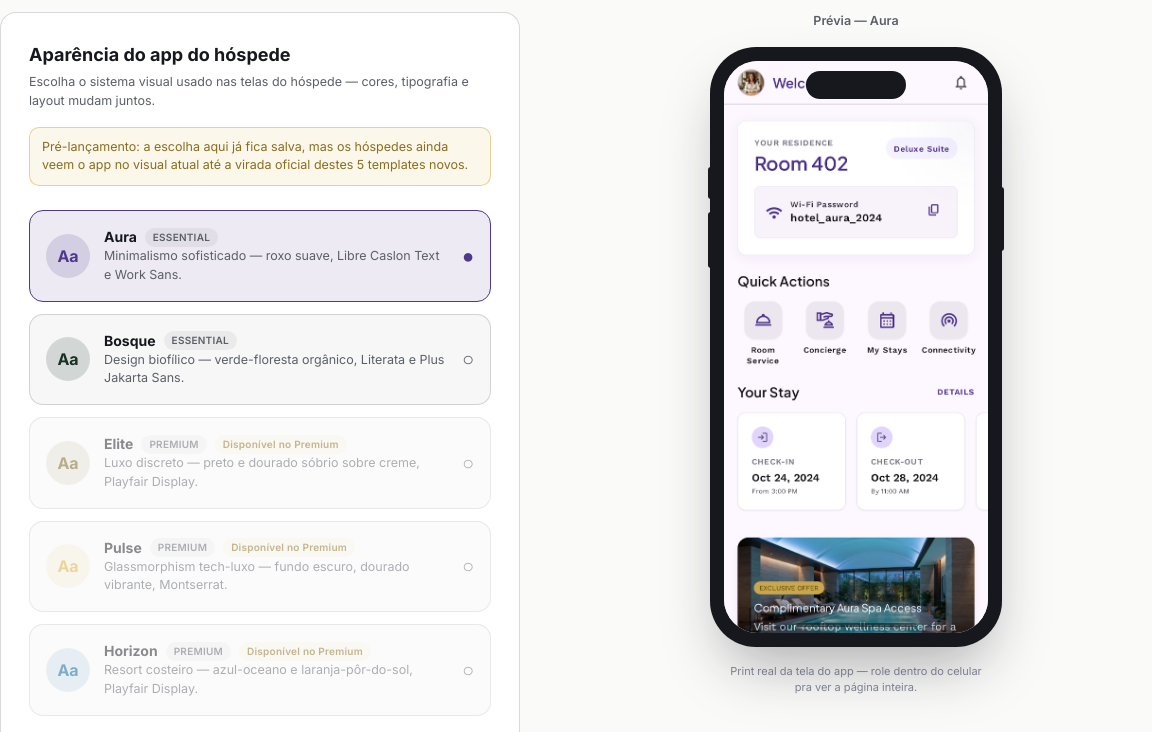
AppearancePage › switches the preview when a different allowed option is selected
The image size is (1152, 732).
Expected: the text "Prévia — Aura" is shown, left=813, top=12, right=899, bottom=31
Click the text "Bosque": click(130, 340) left=104, top=330, right=156, bottom=350
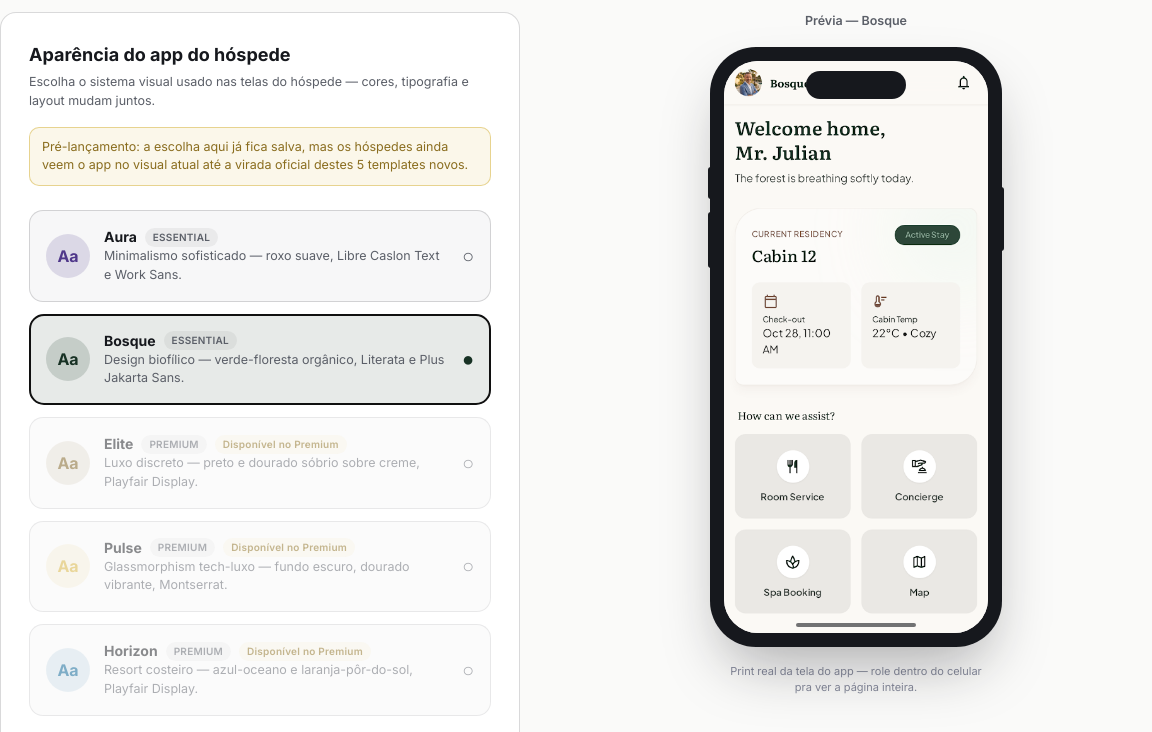
Result: the text "Prévia — Bosque" is shown at left=805, top=12, right=907, bottom=31
